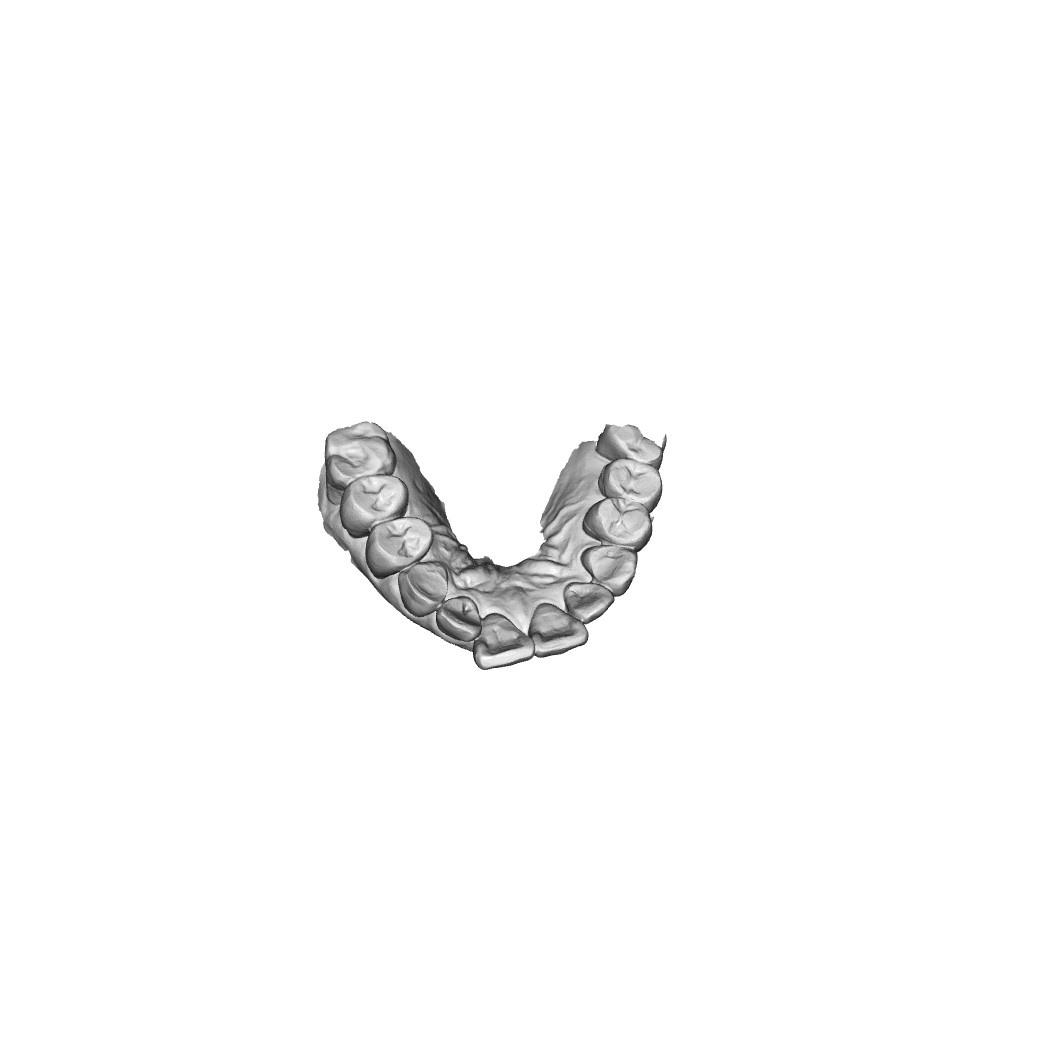canine: (401, 561, 450, 612), (584, 547, 635, 591)
incisor: (474, 618, 537, 664), (533, 607, 596, 651), (441, 598, 492, 640), (566, 577, 614, 621)
molar: (326, 421, 393, 479)
premolar: (366, 513, 434, 576), (343, 470, 406, 533), (597, 455, 665, 507), (584, 495, 650, 548)
